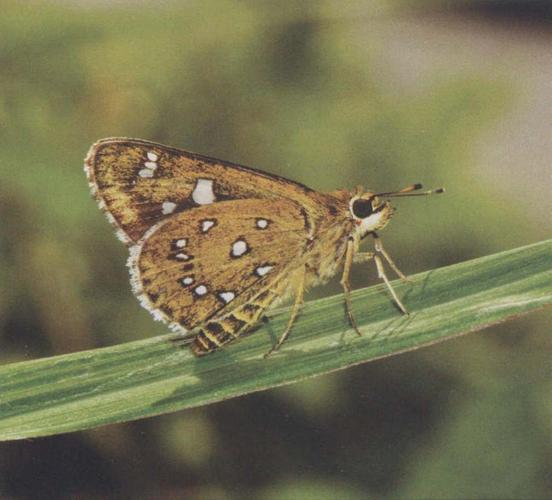Hesperiidae: (80, 132, 451, 366)
